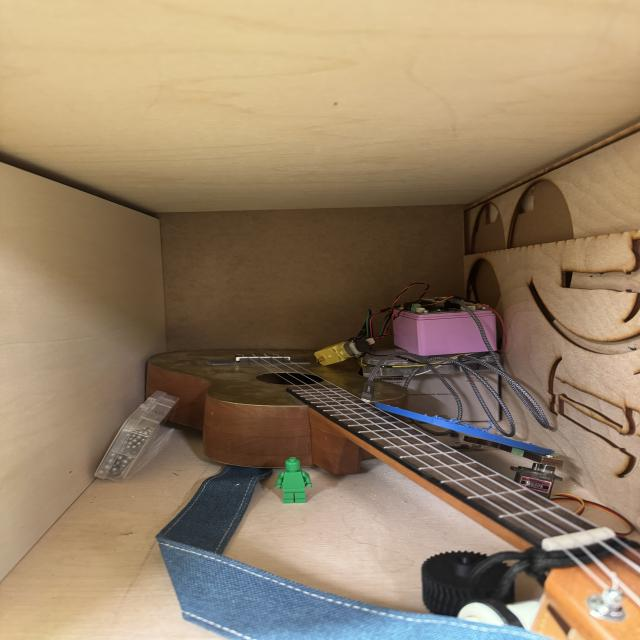Green Mini Figure: (275, 458, 313, 503)
